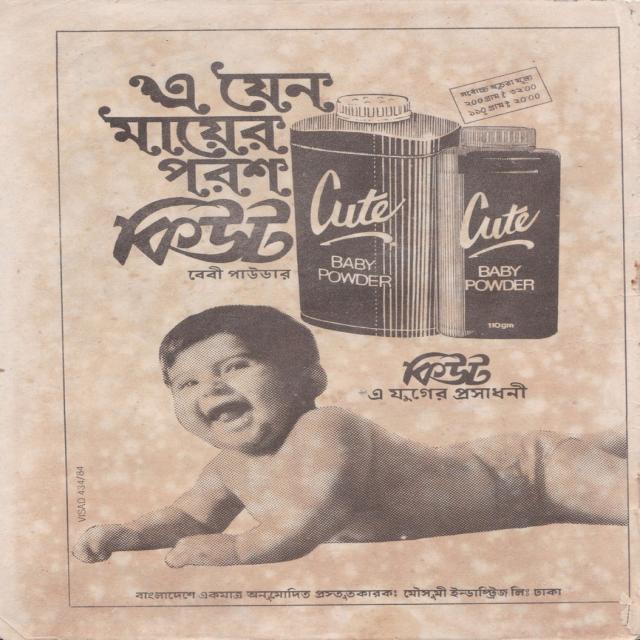advertisement: (58, 26, 632, 638)
